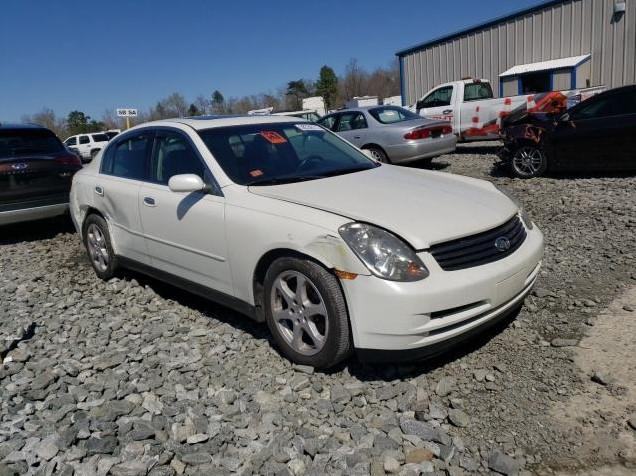Back-door: (92, 127, 155, 266)
Back-wheel: (83, 213, 123, 282)
Back-window: (113, 134, 149, 178), (103, 147, 112, 170)
Fender: (220, 184, 372, 306)
Front-bumper: (334, 207, 544, 349)
Front-door: (137, 126, 235, 296)
Front-wheel: (264, 251, 355, 368)
Front-window: (150, 130, 205, 183)
Grille: (429, 212, 527, 271)
Headlight: (338, 222, 429, 282), (492, 183, 533, 229)
Hood: (248, 161, 519, 251)
Mirror: (168, 167, 219, 193)
Quarter-panel: (70, 164, 99, 241)
Rocker-panel: (116, 254, 266, 323)
Roof: (149, 115, 312, 131)
Windshield: (196, 122, 376, 186)
